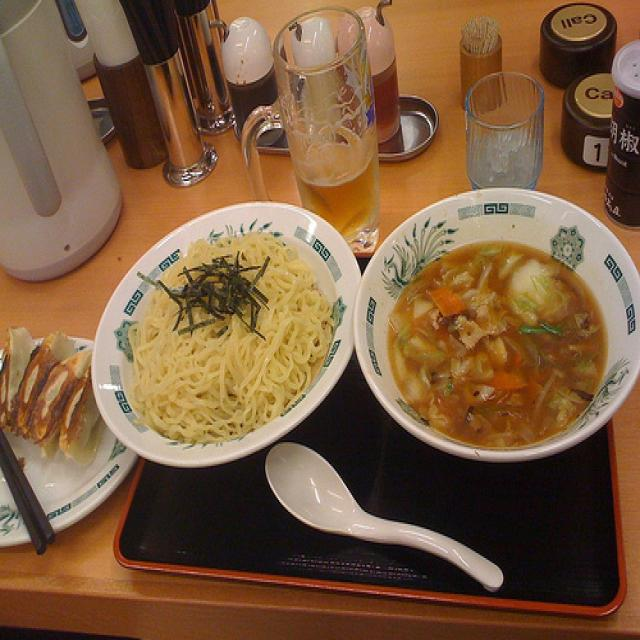面条主食: (124, 223, 612, 474)
